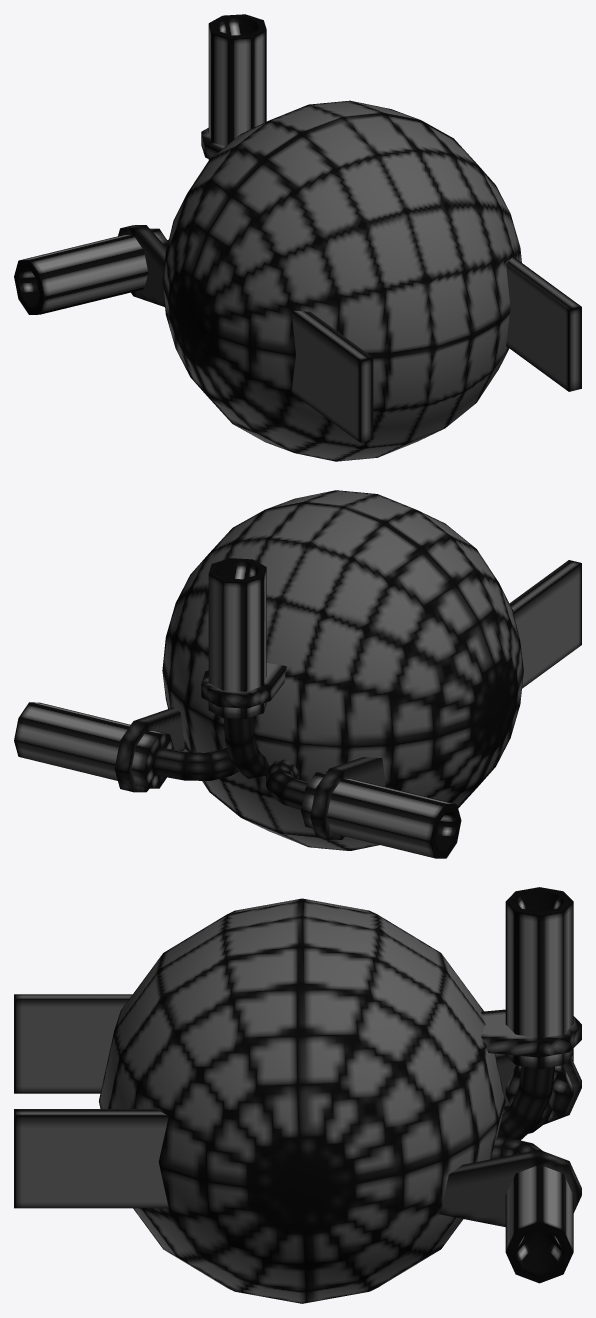
Rendered from rcs_pod.fbx.
The picture shows the model from 3 angles, top to bottom: view 1: azimuth 30°, elevation 25°; view 2: azimuth 150°, elevation 25°; view 3: azimuth 270°, elevation 25°; orthographic projection. The views are drawn at different scales.
Visible parts, largest first — view 1: mesh; view 2: mesh; view 3: mesh.
Part boxes in pixels (bbox=[...]): mesh: bbox=[14, 14, 581, 461]; mesh: bbox=[14, 490, 581, 858]; mesh: bbox=[14, 887, 581, 1303].
Size of the model in its own units: 0.4 by 0.3125 by 0.4188.
